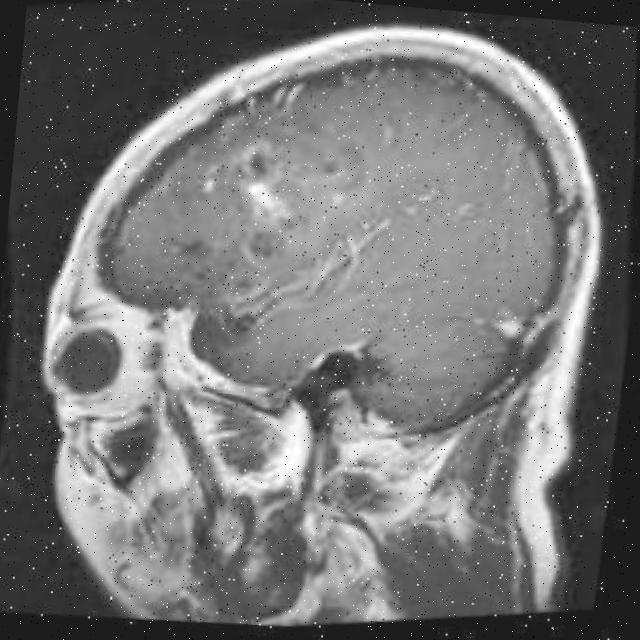EMCI: (166, 64, 472, 374)
